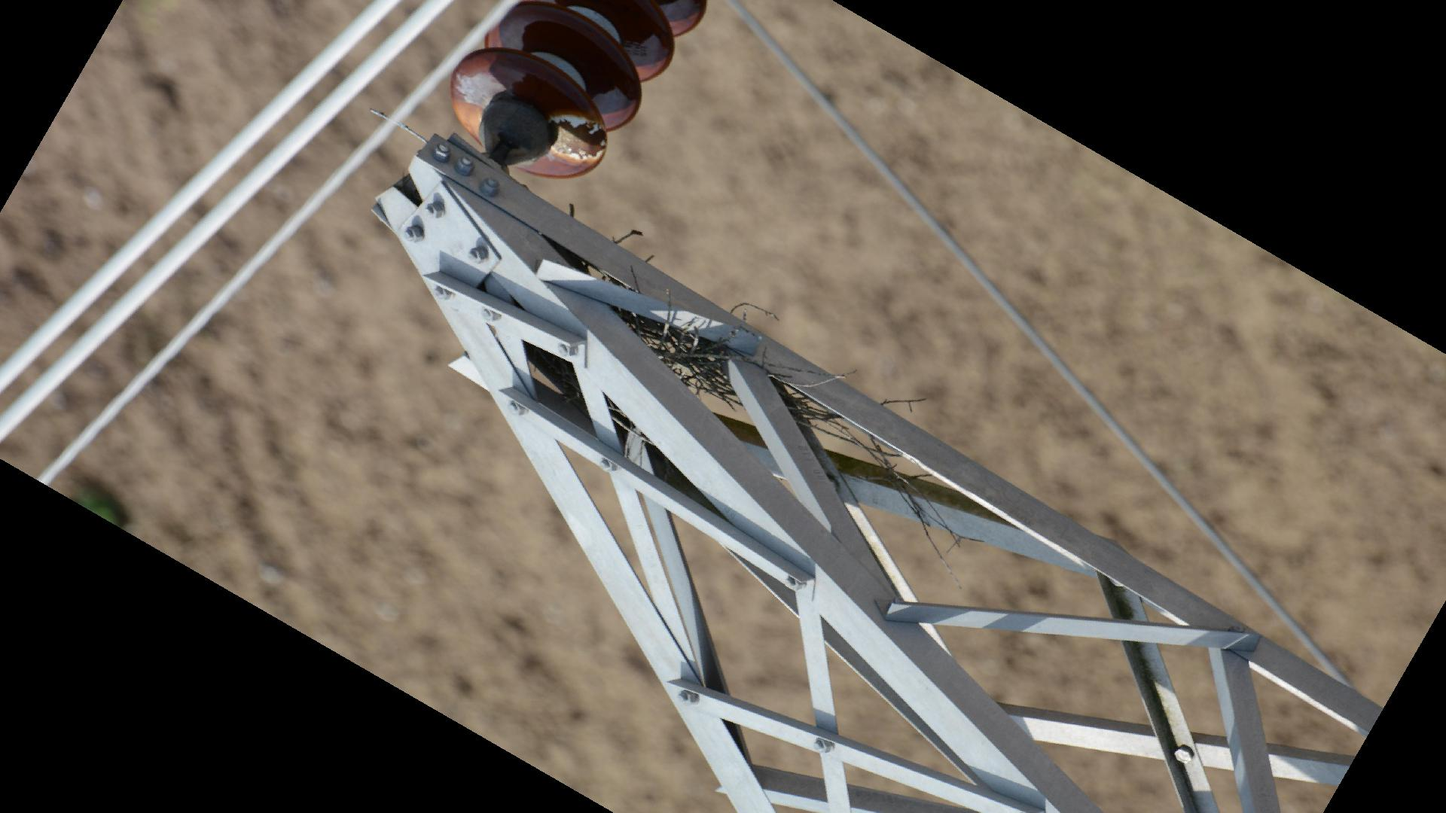insulator: (446, 1, 715, 187)
insulator_flashover: (545, 113, 611, 163), (452, 69, 506, 111)
